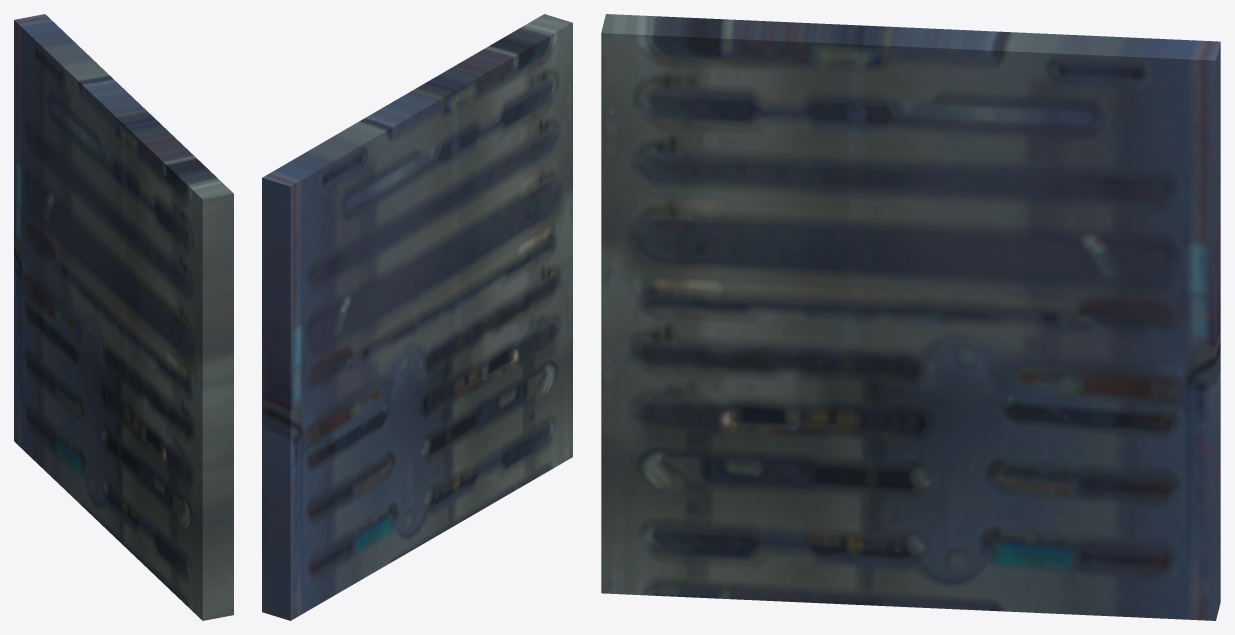
File: Rack_2.gltf
The picture shows the model from 3 angles, left to right: view 1: azimuth 30°, elevation 25°; view 2: azimuth 150°, elevation 25°; view 3: azimuth 270°, elevation 25°; orthographic projection. The views are drawn at different scales.
Visible parts, largest first — view 1: Rack_2; view 2: Rack_2; view 3: Rack_2.
Part boxes in pixels (x1=…): Rack_2: x1=14, y1=14, x2=233, y2=620; Rack_2: x1=262, y1=14, x2=572, y2=620; Rack_2: x1=601, y1=14, x2=1220, y2=620.
Bounding box in the file's own units: 0.5737 × 3.21 × 3.22.
1 material, 1 textured.
